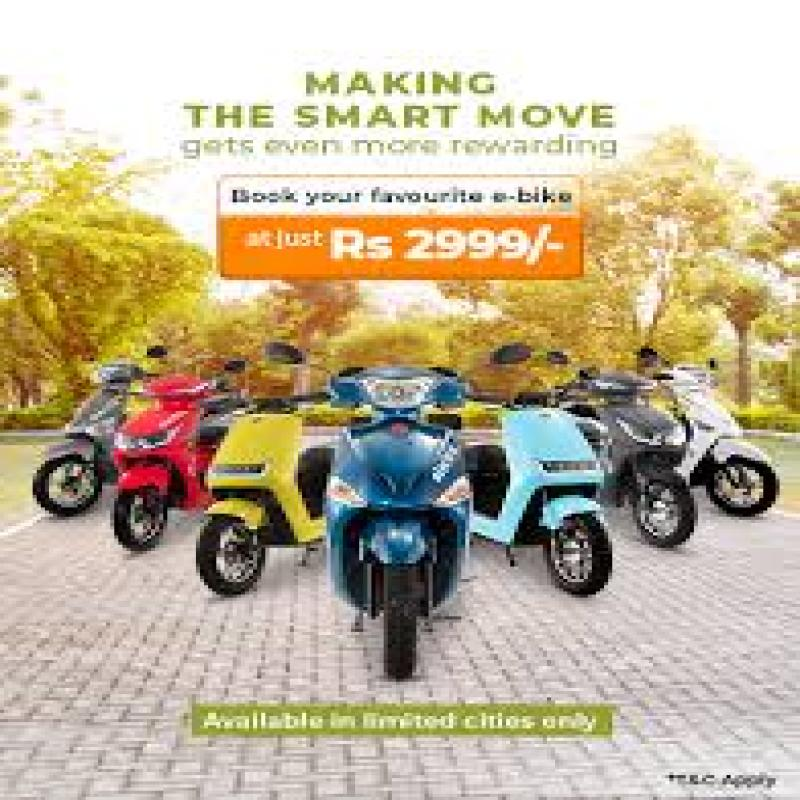bike: (270, 319, 544, 689), (154, 372, 363, 594), (479, 367, 636, 599), (84, 345, 237, 552), (633, 334, 791, 507), (570, 364, 707, 546), (31, 337, 168, 516)
